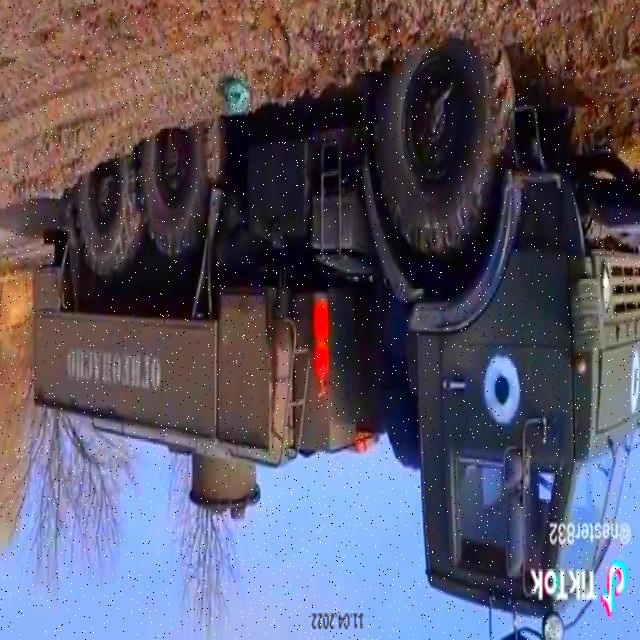TRUCK: (32, 25, 640, 624)
